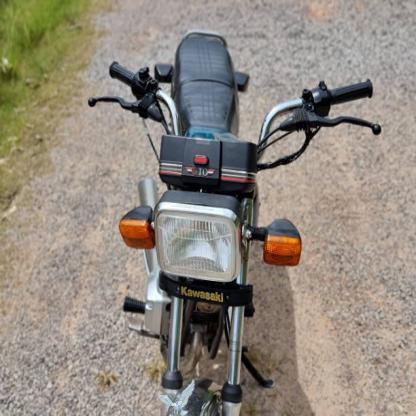Motorcycle: (84, 25, 383, 415)
